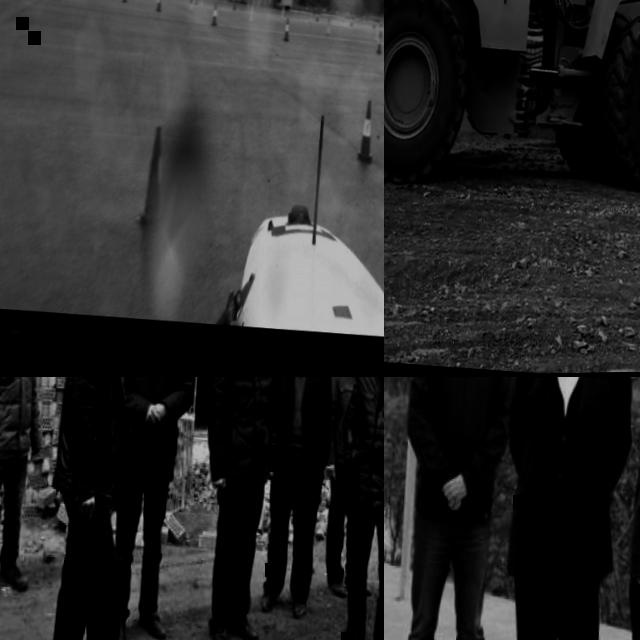NO-Safety Vest: (506, 377, 621, 575), (413, 377, 505, 511), (49, 377, 127, 486), (112, 377, 184, 473), (208, 377, 274, 476), (266, 377, 329, 460), (345, 377, 384, 508), (0, 377, 38, 457), (326, 377, 359, 465)
Person: (478, 377, 640, 640), (384, 377, 528, 640), (32, 377, 151, 640), (94, 377, 204, 640), (184, 377, 287, 640), (251, 377, 343, 622), (318, 377, 384, 640), (307, 377, 384, 601), (0, 377, 58, 590)
Safety Cone: (131, 125, 171, 234), (354, 100, 377, 165), (281, 17, 290, 42), (374, 33, 383, 55), (210, 4, 218, 27), (324, 17, 330, 36), (153, 0, 162, 12), (247, 6, 253, 23), (373, 26, 378, 42), (186, 0, 193, 11), (279, 6, 284, 20), (230, 0, 236, 11), (244, 2, 249, 15), (377, 20, 382, 33), (307, 12, 312, 23), (314, 12, 319, 23), (340, 16, 344, 28), (348, 16, 352, 27), (371, 18, 375, 29), (197, 0, 203, 6), (334, 9, 338, 17), (192, 0, 198, 5), (321, 8, 325, 15), (305, 5, 308, 14), (362, 13, 365, 22)
machinery: (384, 0, 640, 222)
